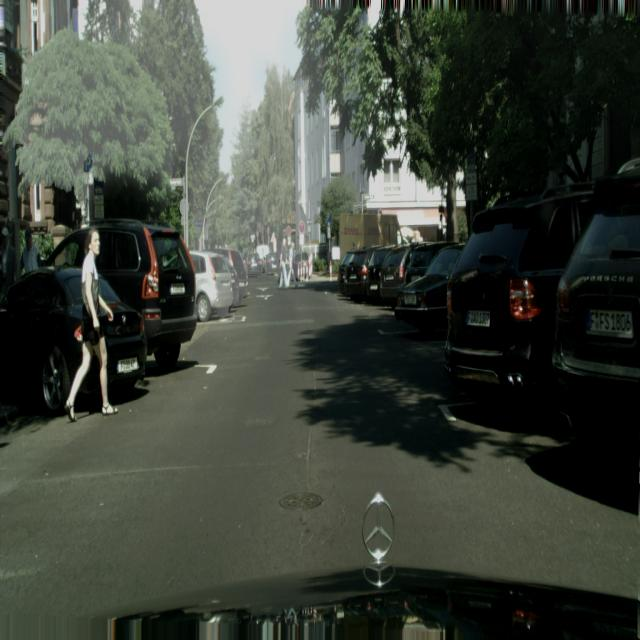person: (65, 230, 118, 422), (0, 224, 17, 303), (20, 227, 40, 276), (279, 239, 288, 288), (288, 241, 297, 286)
truck: (444, 184, 594, 414), (550, 161, 640, 473), (41, 216, 199, 369), (0, 263, 148, 411), (395, 244, 464, 338), (392, 242, 445, 308), (191, 251, 234, 321), (379, 245, 412, 306), (217, 245, 248, 307), (362, 248, 392, 302), (337, 249, 368, 299), (246, 252, 263, 277)
